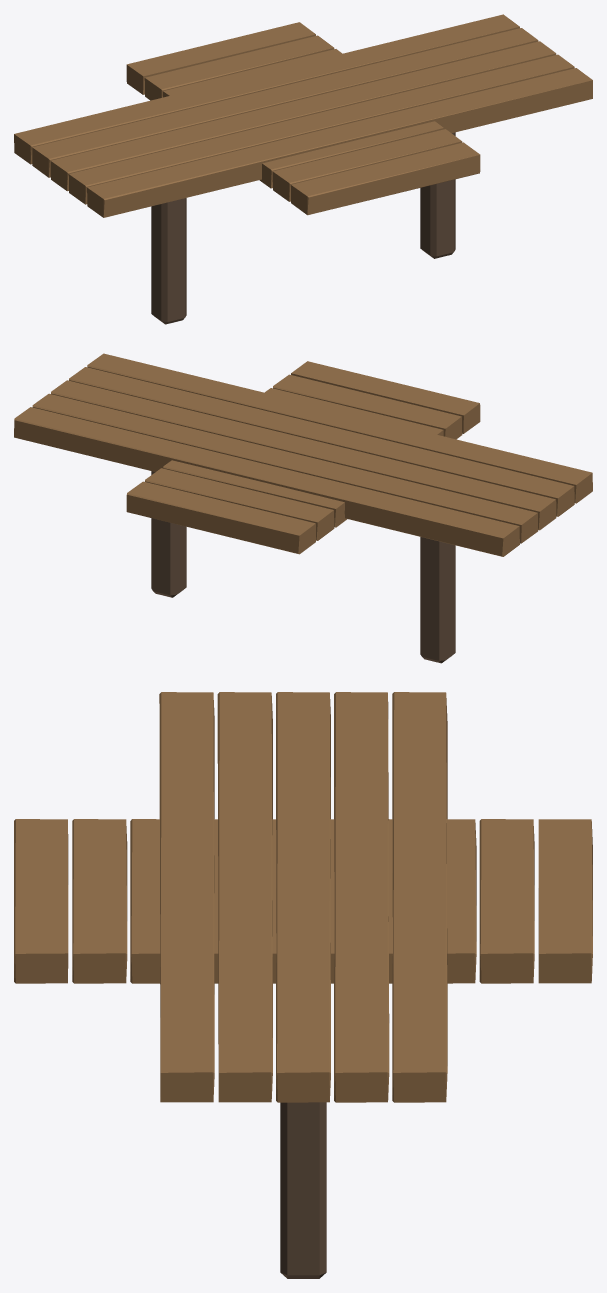
Rendered from harbor-pier-cross.lod1.glb.
3 views of the same model, one above another, from view 1: azimuth 30°, elevation 25°; view 2: azimuth 150°, elevation 25°; view 3: azimuth 270°, elevation 25° (orthographic). The views are drawn at different scales.
Parts seen in each view (by area): view 1: harbor-pier-cross__body; view 2: harbor-pier-cross__body; view 3: harbor-pier-cross__body.
Part boxes in pixels (<box>): harbor-pier-cross__body: <box>14,14,592,324</box>; harbor-pier-cross__body: <box>14,353,592,663</box>; harbor-pier-cross__body: <box>14,692,592,1278</box>.
Bounding box in the file's own units: 3.09 × 1.08 × 1.99.
